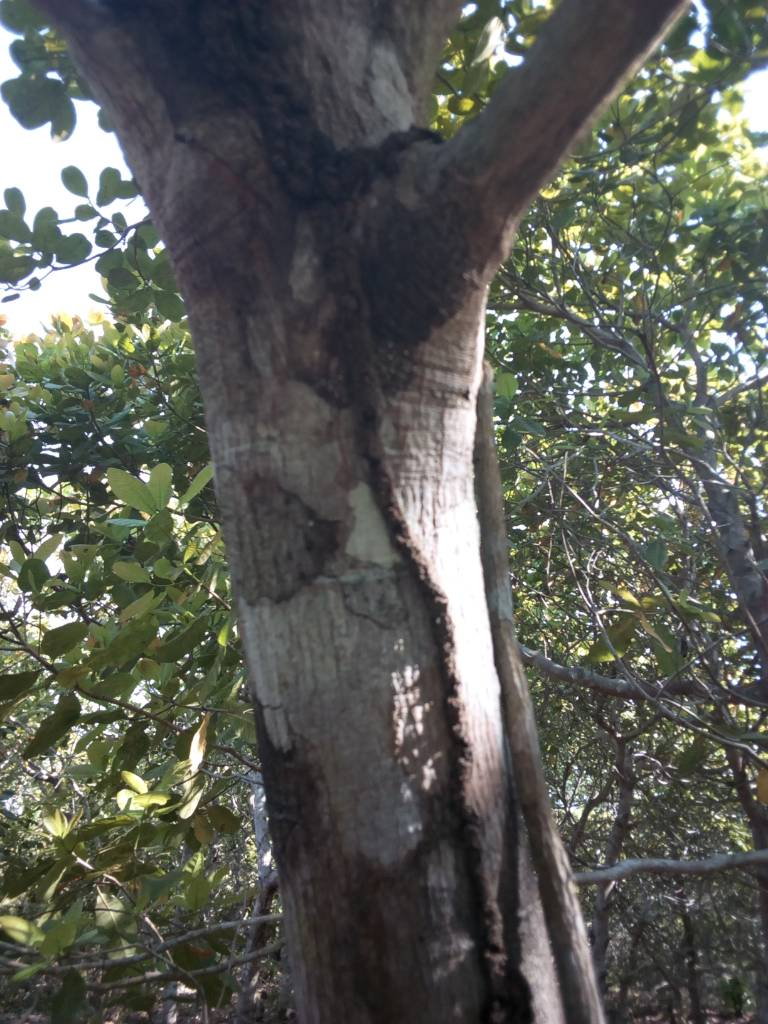Termites: (335, 207, 533, 1010)
